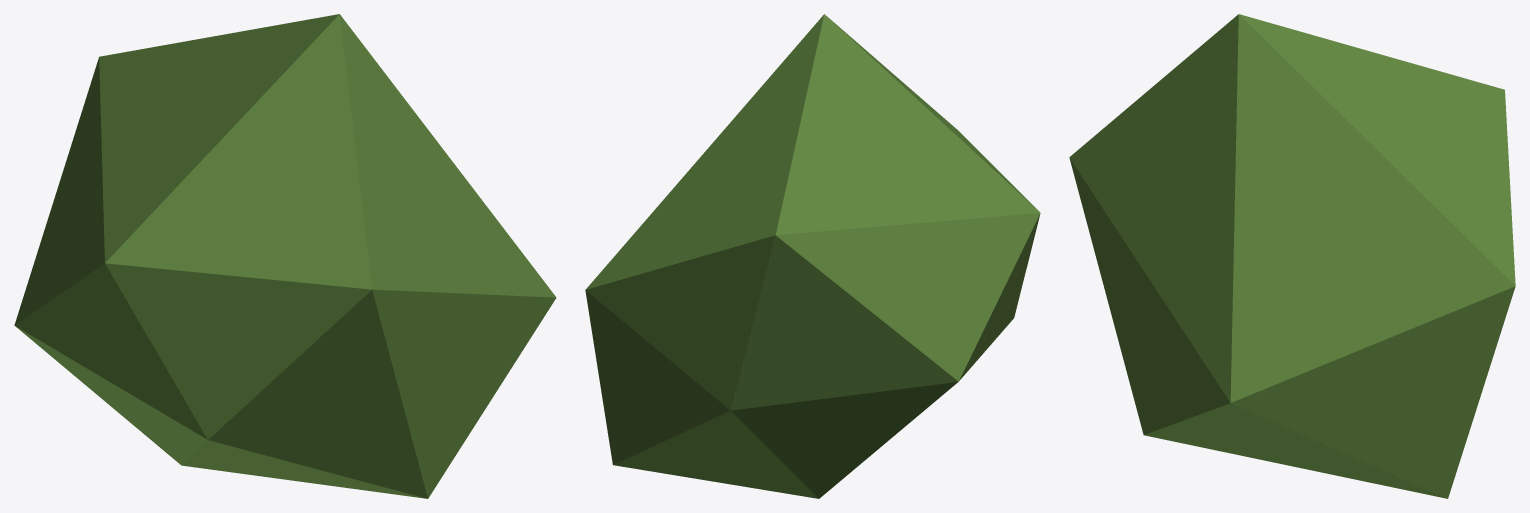
The model's file is Bush3.fbx.
3 renders of one model, left to right at view 1: azimuth 30°, elevation 25°; view 2: azimuth 150°, elevation 25°; view 3: azimuth 270°, elevation 25°, orthographic. The views are drawn at different scales.
Visible parts, largest first — view 1: Bush_3a; view 2: Bush_3a; view 3: Bush_3a.
Boxes of the visible parts, box(x1,y1,x2,y2) form: Bush_3a: box(14, 14, 556, 498); Bush_3a: box(585, 14, 1040, 498); Bush_3a: box(1069, 14, 1515, 498).
Bounding box in the file's own units: 240 × 247 × 227.
